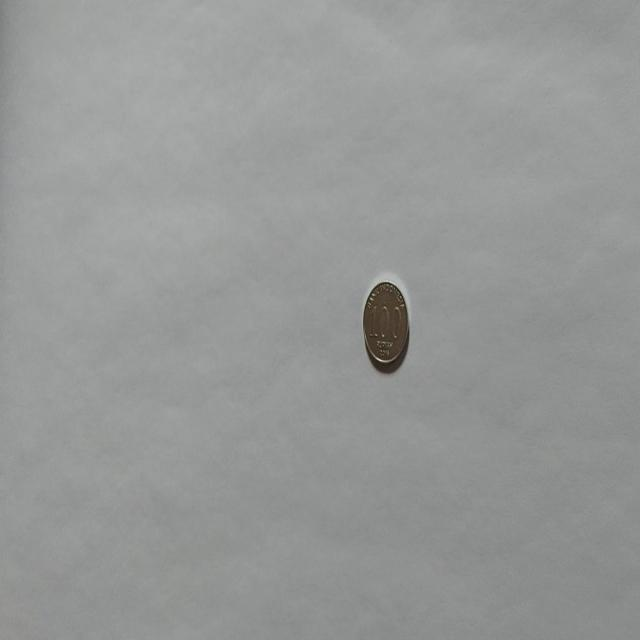seratus rupiah: (362, 278, 409, 371)
